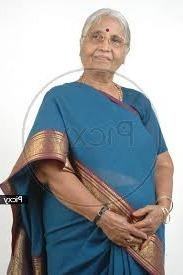Human: (23, 7, 173, 275)
